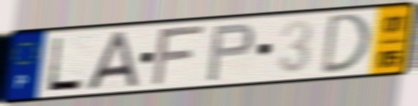3: (277, 18, 317, 76)
A: (84, 29, 140, 92)
D: (318, 11, 374, 77)
F: (149, 23, 209, 89)
L: (44, 35, 86, 94)
P: (204, 21, 257, 84)
